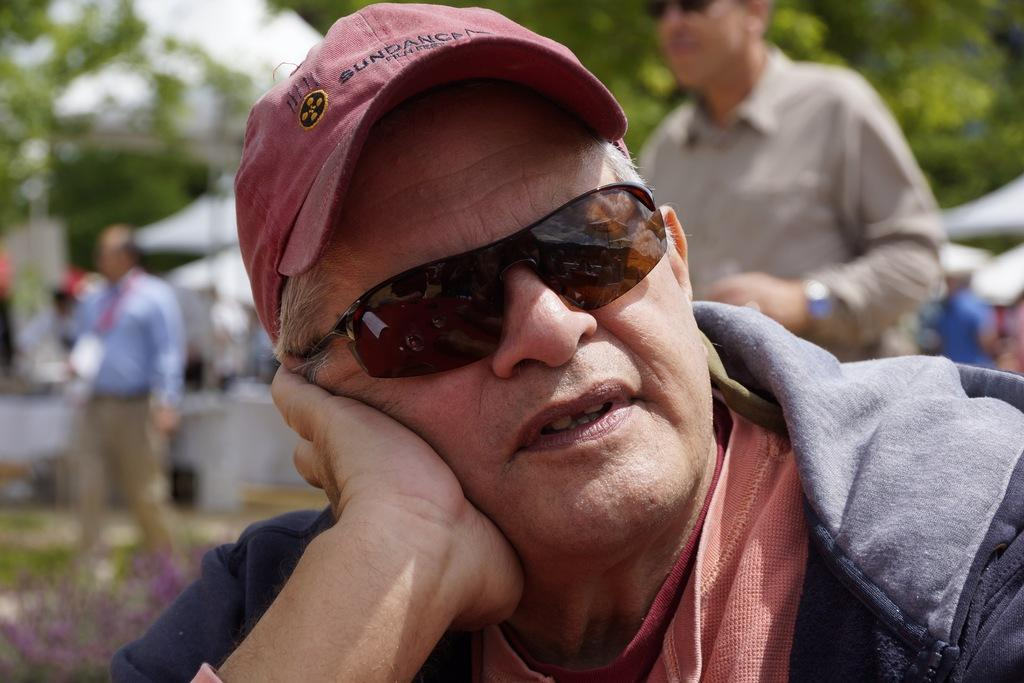Hat: (235, 0, 623, 341)
